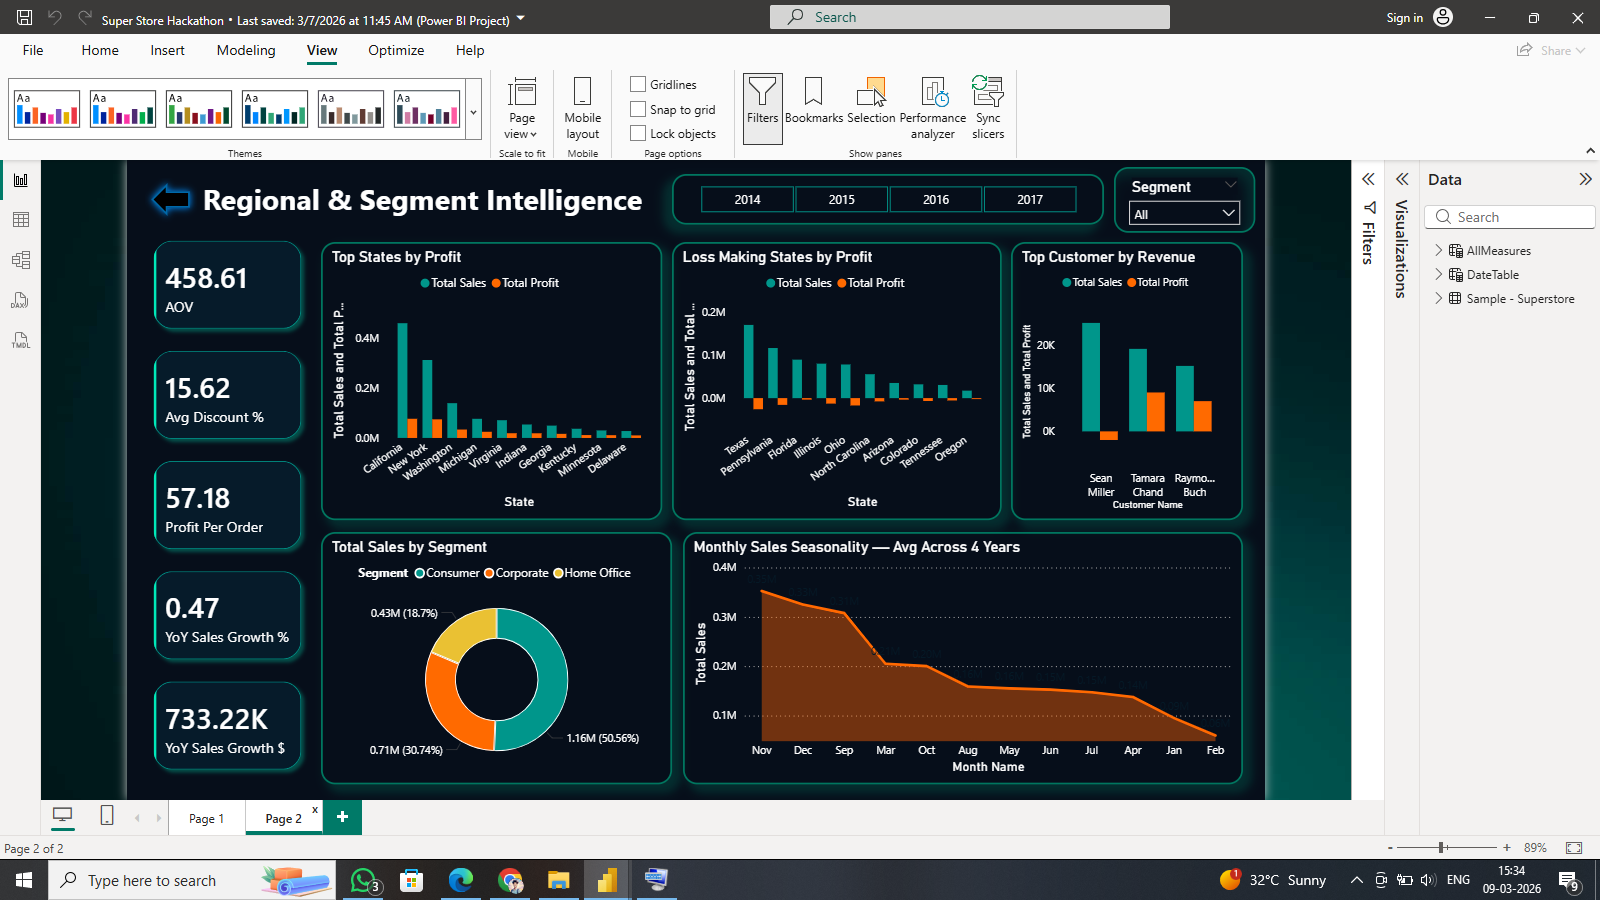

The page's visual inventory and layout, read from the dashboard file:
{"tool":"powerbi","page":{"name":"Page 2","canvas":[1280,720],"ordinal":1},"visuals":[{"type":"donutChart","fields":{"Category":["Sample - Superstore.Segment"],"Y":["AllMeasures.Total Sales"]},"box":[218.4,418.5,395.3,284.3],"z":0},{"type":"areaChart","title":"Monthly Sales Seasonality — Avg Across 4 Years  ","fields":{"Category":["Sample - Superstore.Month Name"],"Y":["AllMeasures.Total Sales"]},"box":[626,418.5,629.6,284.3],"z":1000},{"type":"clusteredColumnChart","title":"Top States by Profit","fields":{"Category":["Sample - Superstore.State"],"Y":["AllMeasures.Total Sales","AllMeasures.Total Profit"]},"box":[218.2,92.2,383.6,312.8],"z":2000},{"type":"clusteredColumnChart","title":"Loss Making States by Profit","fields":{"Category":["Sample - Superstore.State"],"Y":["AllMeasures.Total Sales","AllMeasures.Total Profit"]},"box":[613.1,92.2,371.2,312.8],"z":3000},{"type":"slicer","fields":{"Values":["DateTable.Year"]},"box":[613.1,15.8,486,57.4],"z":4000},{"type":"cardVisual","fields":{"Data":["AllMeasures.AOV","AllMeasures.Avg Discount %","AllMeasures.Profit Per Order","AllMeasures.YoY Sales Growth %","AllMeasures.YoY Sales Growth $"]},"box":[0,61,227,658.9],"z":5000},{"type":"clusteredColumnChart","title":"Top Customer by Revenue","fields":{"Category":["Sample - Superstore.Customer Name"],"Y":["AllMeasures.Total Sales","AllMeasures.Total Profit"]},"box":[994.5,92.2,261,312.8],"z":6000},{"type":"slicer","fields":{"Values":["Sample - Superstore.Segment"]},"box":[1110.4,7.9,158.6,74.2],"z":7000},{"type":"shape","box":[85.5,7.9,540,68.6],"z":8000},{"type":"shape","box":[19.1,18,59.6,52.9],"z":8001}]}

Visuals, with their boxes on the page's 1280x720 design canvas (x1, y1, x2, y2). These are canvas units, not pixel positions in the 1600x900 screenshot, which may show the page scaled, cropped or inside an application window:
donutChart - Sample - Superstore.Segment x AllMeasures.Total Sales: [left=218, top=418, right=614, bottom=703]
"Monthly Sales Seasonality — Avg Across 4 Years  " areaChart: [left=626, top=418, right=1256, bottom=703]
"Top States by Profit" clusteredColumnChart: [left=218, top=92, right=602, bottom=405]
"Loss Making States by Profit" clusteredColumnChart: [left=613, top=92, right=984, bottom=405]
slicer - DateTable.Year: [left=613, top=16, right=1099, bottom=73]
cardVisual - AllMeasures.AOV x AllMeasures.Avg Discount %: [left=0, top=61, right=227, bottom=720]
"Top Customer by Revenue" clusteredColumnChart: [left=994, top=92, right=1256, bottom=405]
slicer - Sample - Superstore.Segment: [left=1110, top=8, right=1269, bottom=82]
shape: [left=86, top=8, right=626, bottom=76]
shape: [left=19, top=18, right=79, bottom=71]
